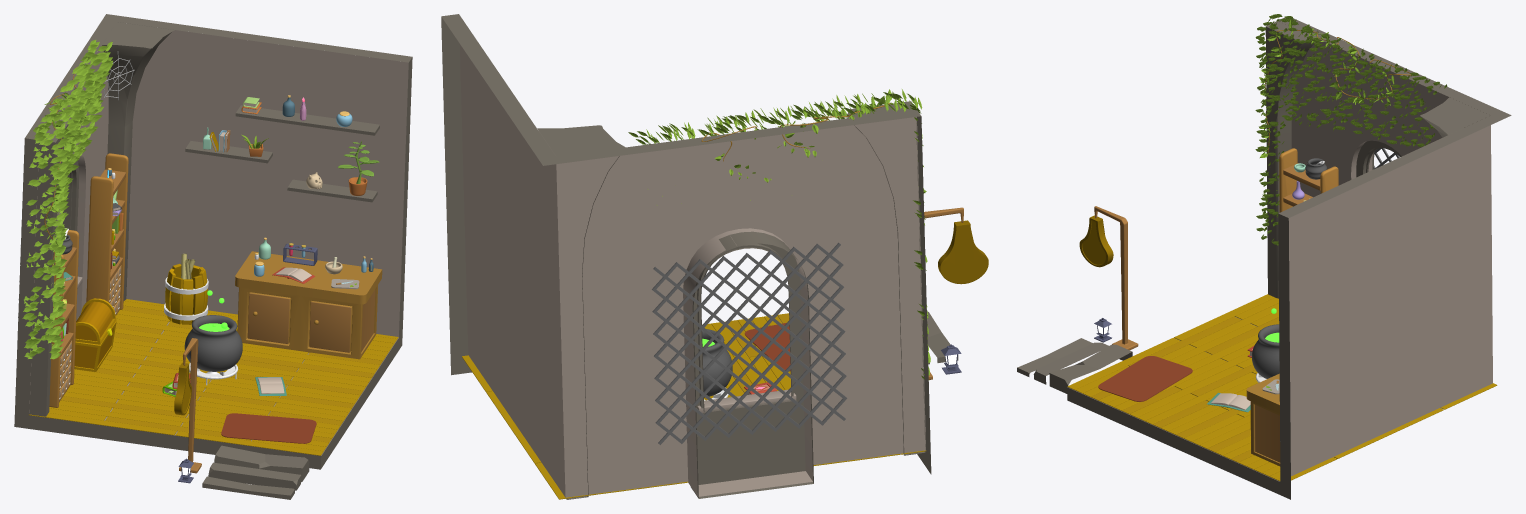
Rendered from potion-shop-final.glb.
3 renders of one model, left to right at view 1: azimuth 30°, elevation 25°; view 2: azimuth 150°, elevation 25°; view 3: azimuth 270°, elevation 25°, orthographic. The views are drawn at different scales.
Visible parts, largest first — view 1: Cube.002, Cube.025, Cube.001, Cube.022, Cube.005, Cube.011, Circle.005, Plane.002, Cylinder.002, Cube.083, Cube.084, Cube.020 (+15 smaller); view 2: Cube.002, Plane.012, Cube.008, Cube.025, Cube.022, Cube.005, Circle.039, Circle.005, Plane.002, Cube.009, Cube.085; view 3: Cube.002, Cube.025, Cube.022, Cube.005, Plane.002, Cube.001, Cube.083, Cube.086, Circle.005, Circle.039, Cube.084, Cube.012 (+4 smaller).
Part boxes in pixels (left/top/right/bottom): Cube.002: left=14, top=14, right=412, bottom=469; Cube.025: left=29, top=299, right=398, bottom=455; Cube.001: left=235, top=251, right=382, bottom=359; Cube.022: left=22, top=39, right=113, bottom=359; Cube.005: left=29, top=22, right=174, bottom=416; Cube.011: left=86, top=176, right=113, bottom=302; Circle.005: left=184, top=315, right=242, bottom=371; Plane.002: left=221, top=413, right=316, bottom=443; Cylinder.002: left=165, top=263, right=207, bottom=324; Cube.083: left=214, top=445, right=309, bottom=481; Cube.084: left=208, top=462, right=301, bottom=490; Cube.020: left=235, top=105, right=379, bottom=135; Cube.002: left=441, top=14, right=931, bottom=497; Plane.012: left=652, top=242, right=847, bottom=444; Cube.008: left=691, top=231, right=813, bottom=498; Cube.025: left=462, top=313, right=926, bottom=499; Cube.022: left=628, top=89, right=930, bottom=380; Cube.005: left=537, top=101, right=925, bottom=499; Circle.039: left=938, top=220, right=988, bottom=284; Circle.005: left=702, top=329, right=732, bottom=397; Plane.002: left=744, top=322, right=790, bottom=371; Cube.009: left=697, top=389, right=796, bottom=412; Cube.085: left=927, top=312, right=958, bottom=362; Cube.002: left=1067, top=17, right=1511, bottom=499; Cube.025: left=1067, top=294, right=1497, bottom=481; Cube.022: left=1255, top=14, right=1447, bottom=245; Cube.005: left=1265, top=21, right=1490, bottom=298; Plane.002: left=1098, top=356, right=1192, bottom=401; Cube.001: left=1246, top=373, right=1280, bottom=466; Cube.083: left=1049, top=344, right=1132, bottom=393; Cube.086: left=1094, top=206, right=1138, bottom=350; Circle.005: left=1252, top=324, right=1279, bottom=378; Circle.039: left=1079, top=215, right=1113, bottom=267; Cube.084: left=1033, top=342, right=1108, bottom=384; Cube.012: left=1279, top=148, right=1297, bottom=212.
Bounding box in the file's own units: 19.22 × 14.4 × 20.8.
